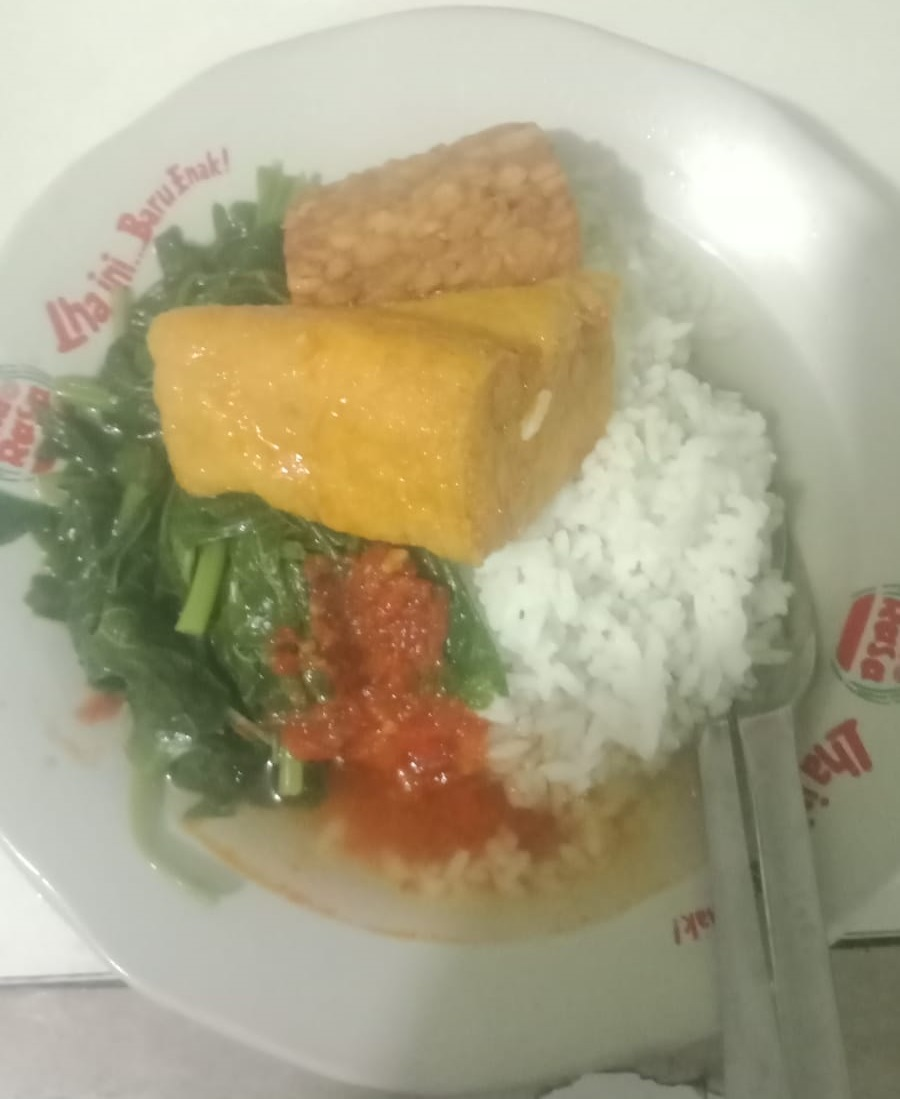Nasi: (530, 517, 808, 805)
Sambal: (285, 558, 502, 884)
Sayur_bayam: (9, 520, 267, 835)
Sayur_tahu: (151, 294, 610, 508)
Tempe: (288, 110, 593, 289)
